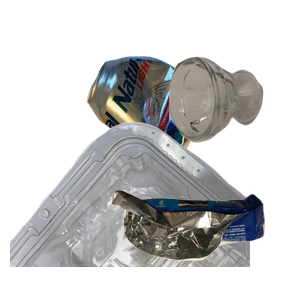glass: (166, 54, 300, 189)
metal: (84, 53, 279, 202)
plastic: (10, 120, 250, 300)
trash: (109, 187, 300, 300)
